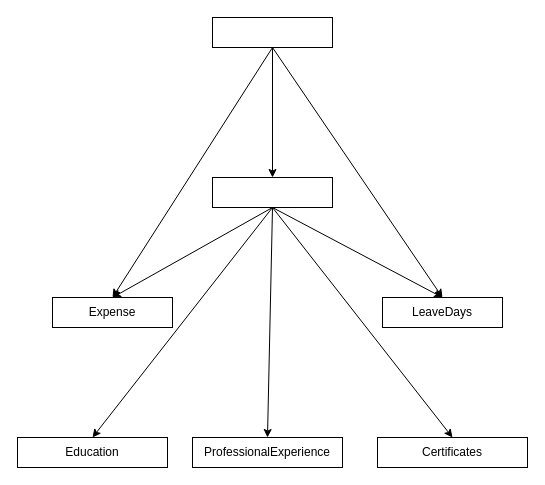
The diagram is 545 pixels wide and 485 high, and some of its shapes have lost their labels. The centre of each missing label's shape, as x and y in pixels:
"Company" goes at point (272, 32).
"Employee" goes at point (272, 192).
